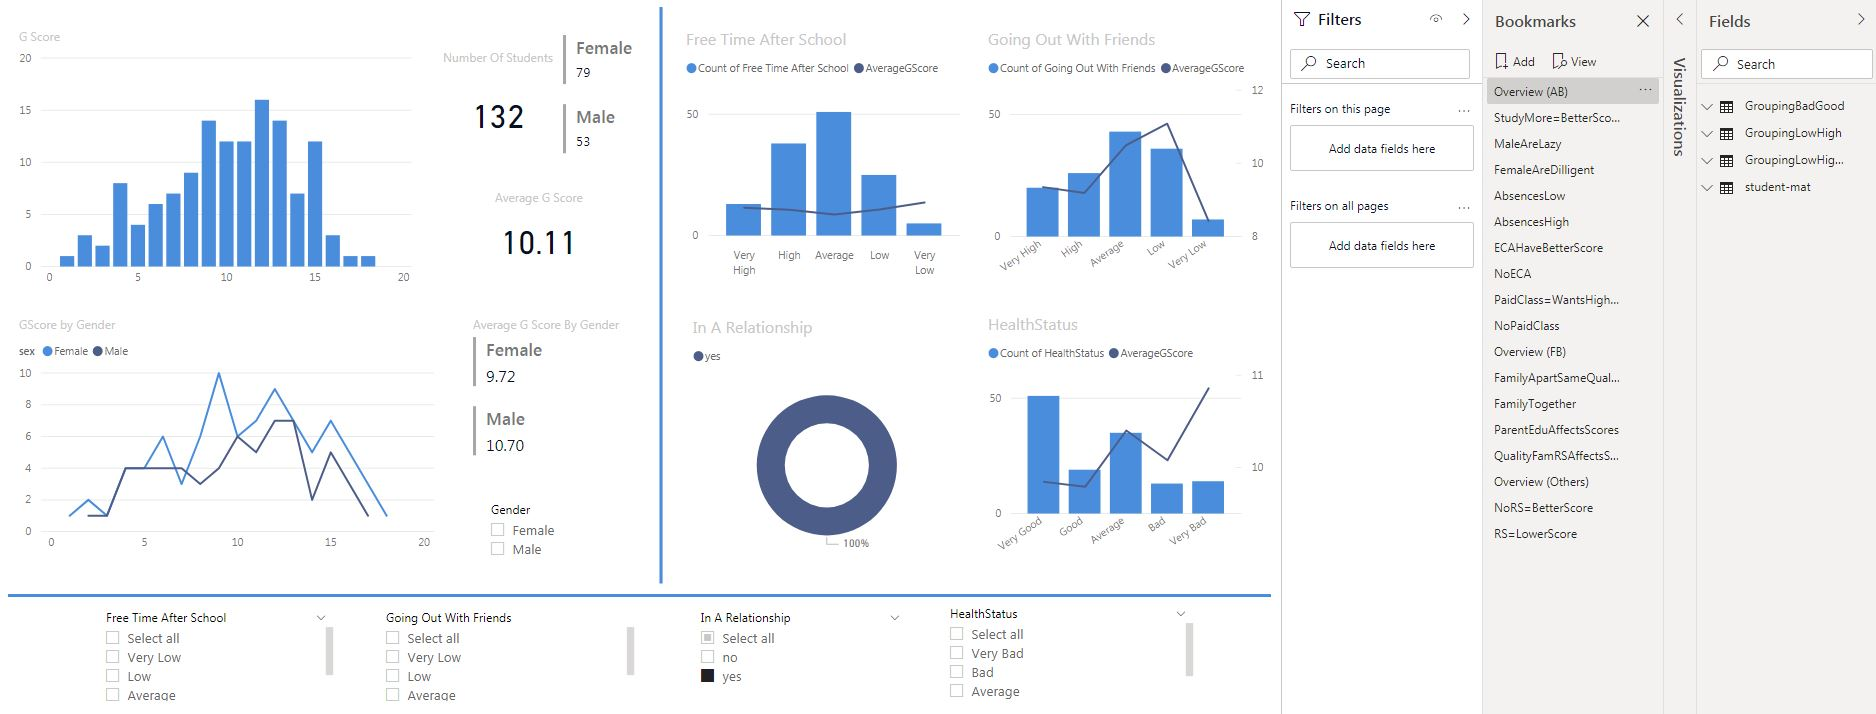

Layout of this report page (visuals, bound fields, positions):
{"tool":"powerbi","page":{"name":"G Score (Others)","canvas":[1280,720],"ordinal":3},"visuals":[{"type":"clusteredColumnChart","title":"G Score","fields":{"Y":["CountNonNull(student-mat.AverageGScore)"],"Category":["student-mat.AverageGScore"]},"box":[15.6,31.1,401.7,266.5],"z":0},{"type":"lineChart","title":"GScore by Gender","fields":{"Category":["student-mat.AverageGScore"],"Y":["CountNonNull(student-mat.AverageGScore)"],"Series":["student-mat.sex"]},"box":[15.6,318.1,424.1,244.1],"z":1000},{"type":"card","title":"Average G Score","fields":{"Values":["Avg(student-mat.AverageGScore)"]},"box":[438.7,191.6,201.3,85.6],"z":2000},{"type":"multiRowCard","title":"Number Of Student Based On Sex","fields":{"Values":["student-mat.sex","CountNonNull(student-mat.sex)"]},"box":[558.3,33.1,96.3,148.8],"z":3000},{"type":"card","title":"Number Of Students","fields":{"Values":["CountNonNull(student-mat.sex)"]},"box":[438.7,51.6,119.6,112.8],"z":4000},{"type":"multiRowCard","title":"Average G Score By Gender","fields":{"Values":["student-mat.sex","Avg(student-mat.AverageGScore)"]},"box":[468.8,318.1,159.5,179.9],"z":5000},{"type":"basicShape","box":[654.6,0,13.6,595.3],"z":6000},{"type":"slicer","fields":{"Values":["student-mat.freetime"]},"box":[94.3,606,245.1,102.1],"z":7000},{"type":"slicer","fields":{"Values":["student-mat.Going Out With Friends"]},"box":[374.5,606,265.5,102.1],"z":8000},{"type":"slicer","fields":{"Values":["student-mat.In A Relationship"]},"box":[688.6,606,223.7,100.2],"z":9000},{"type":"slicer","fields":{"Values":["student-mat.HealthStatus"]},"box":[936.7,602.1,260.7,106],"z":10000},{"type":"basicShape","box":[0,587.5,1280,14.6],"z":11000},{"type":"slicer","fields":{"Values":["student-mat.sex"]},"box":[478.5,498,140.1,81.7],"z":13000},{"type":"lineClusteredColumnComboChart","title":"Free Time After School","fields":{"Category":["student-mat.Free Time After School"],"Y":["CountNonNull(student-mat.Free Time After School)"],"Y2":["Avg(student-mat.AverageGScore)"]},"box":[681.8,31.1,284,255.8],"z":14000},{"type":"donutChart","title":"In A Relationship","fields":{"Category":["student-mat.InARelationship"],"Y":["CountNonNull(student-mat.InARelationship)"]},"box":[688.6,318.1,277.2,250],"z":15000},{"type":"lineClusteredColumnComboChart","title":"HealthStatus","fields":{"Category":["student-mat.HealthStatus"],"Y":["CountNonNull(student-mat.HealthStatus)"],"Y2":["Avg(student-mat.AverageGScore)"]},"box":[982.4,315.1,285,250],"z":16000},{"type":"lineClusteredColumnComboChart","title":"Going Out With Friends","fields":{"Category":["student-mat.goout"],"Y":["CountNonNull(student-mat.Going Out With Friends)"],"Y2":["Avg(student-mat.AverageGScore)"]},"box":[982.4,31.1,285,255.8],"z":17000}]}

Visuals, with their boxes on the page's 1280x720 design canvas (x1, y1, x2, y2). These are canvas units, not pixel positions in the 1876x714 screenshot, which may show the page scaled, cropped or inside an application window:
"G Score" clusteredColumnChart: 16:31:417:298
"GScore by Gender" lineChart: 16:318:440:562
"Average G Score" card: 439:192:640:277
"Number Of Student Based On Sex" multiRowCard: 558:33:655:182
"Number Of Students" card: 439:52:558:164
"Average G Score By Gender" multiRowCard: 469:318:628:498
basicShape: 655:0:668:595
slicer - student-mat.freetime: 94:606:339:708
slicer - student-mat.Going Out With Friends: 374:606:640:708
slicer - student-mat.In A Relationship: 689:606:912:706
slicer - student-mat.HealthStatus: 937:602:1197:708
basicShape: 0:588:1280:602
slicer - student-mat.sex: 478:498:619:580
"Free Time After School" lineClusteredColumnComboChart: 682:31:966:287
"In A Relationship" donutChart: 689:318:966:568
"HealthStatus" lineClusteredColumnComboChart: 982:315:1267:565
"Going Out With Friends" lineClusteredColumnComboChart: 982:31:1267:287
